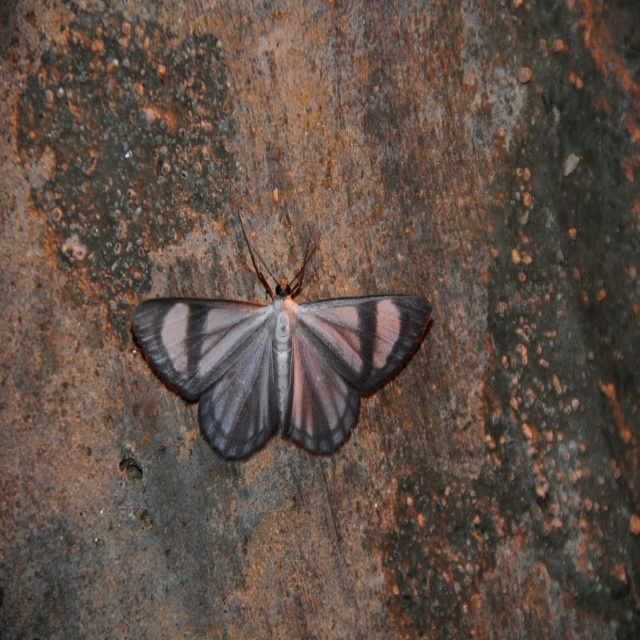Butterfly: (138, 209, 419, 487)
